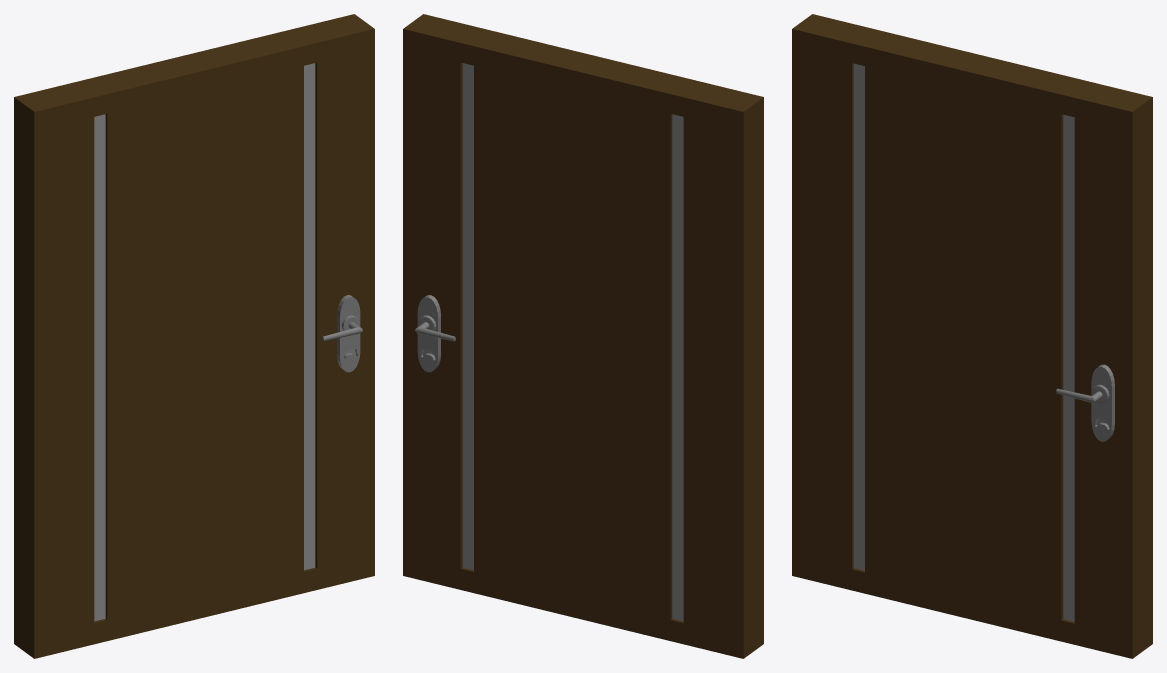
Rendered from PuertaLoca.fbx.
The picture shows the model from 3 angles, left to right: view 1: azimuth 30°, elevation 25°; view 2: azimuth 150°, elevation 25°; view 3: azimuth 330°, elevation 25°; orthographic projection.
Parts seen in each view (by area): view 1: Cube.040, Cube.001; view 2: Cube.040, Cube.039; view 3: Cube.040, Cube.001, Cylinder.010.
Boxes of the visible parts, box(x1,y1,x2,y2) form: Cube.040: box(14, 14, 374, 658); Cube.001: box(337, 295, 360, 372); Cube.040: box(403, 14, 763, 658); Cube.039: box(417, 295, 440, 372); Cube.040: box(792, 14, 1152, 658); Cube.001: box(1091, 364, 1114, 441); Cylinder.010: box(1056, 384, 1109, 403).
Bounding box in the file's own units: 173 × 265 × 40.86.
